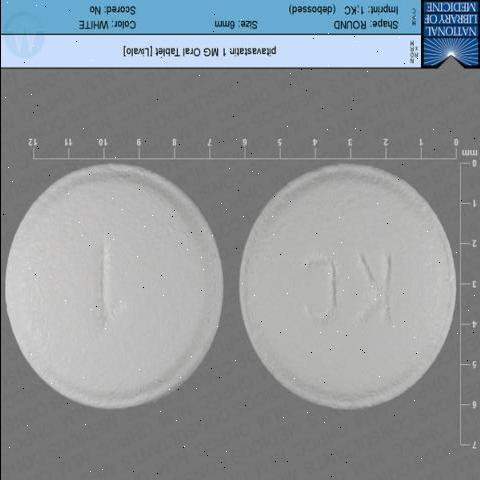Pill: (0, 154, 238, 439), (230, 155, 456, 429)
